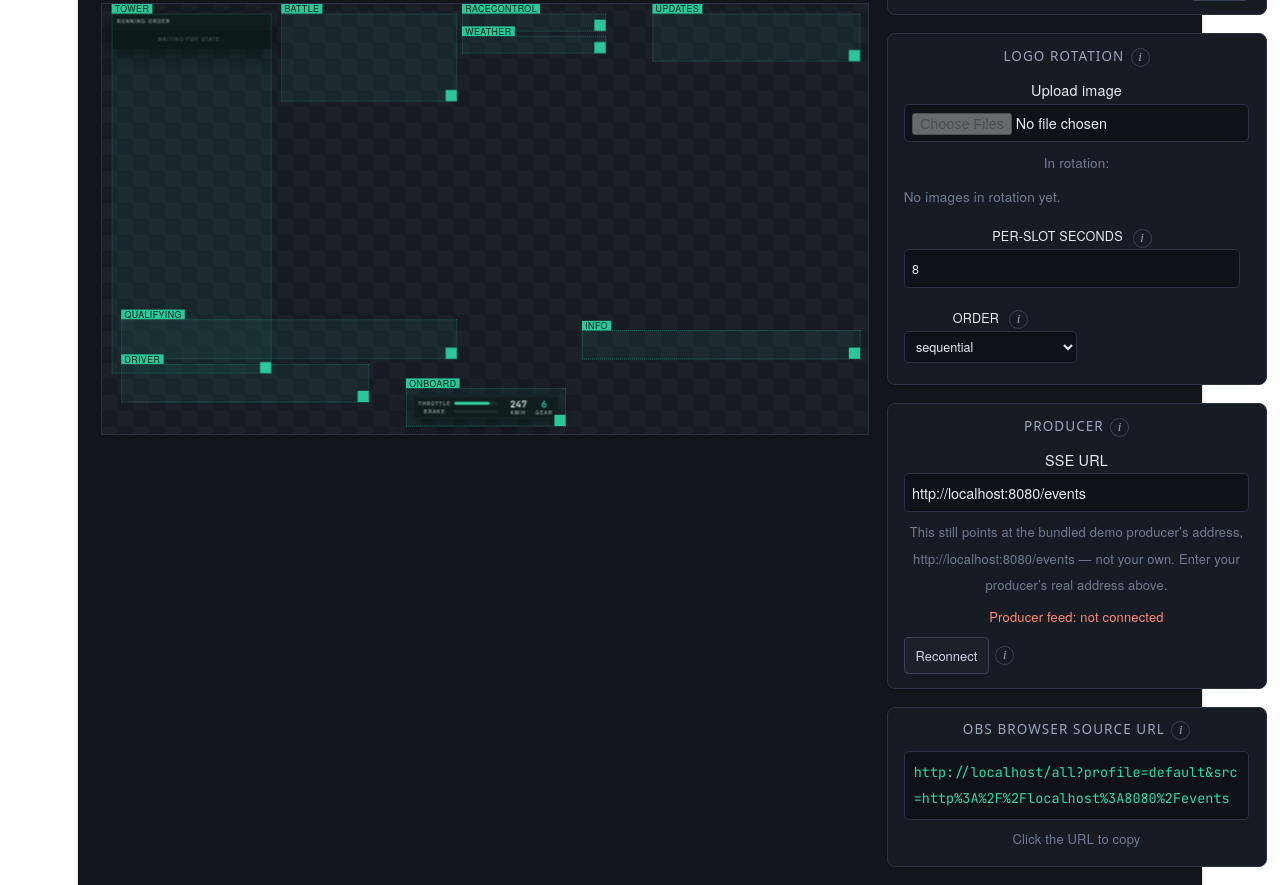
Test case: rule 30 — the Reconnect control (#160) › closes the dead connection, opens a new one against the URL in the field, and resets the readout
The width and height of the screenshot is (1280, 885).
(page scrolled)
Click the button with test id "feed-reconnect" showing "Reconnect" at (946, 656), box left=904, top=637, right=989, bottom=674
(page scrolled)
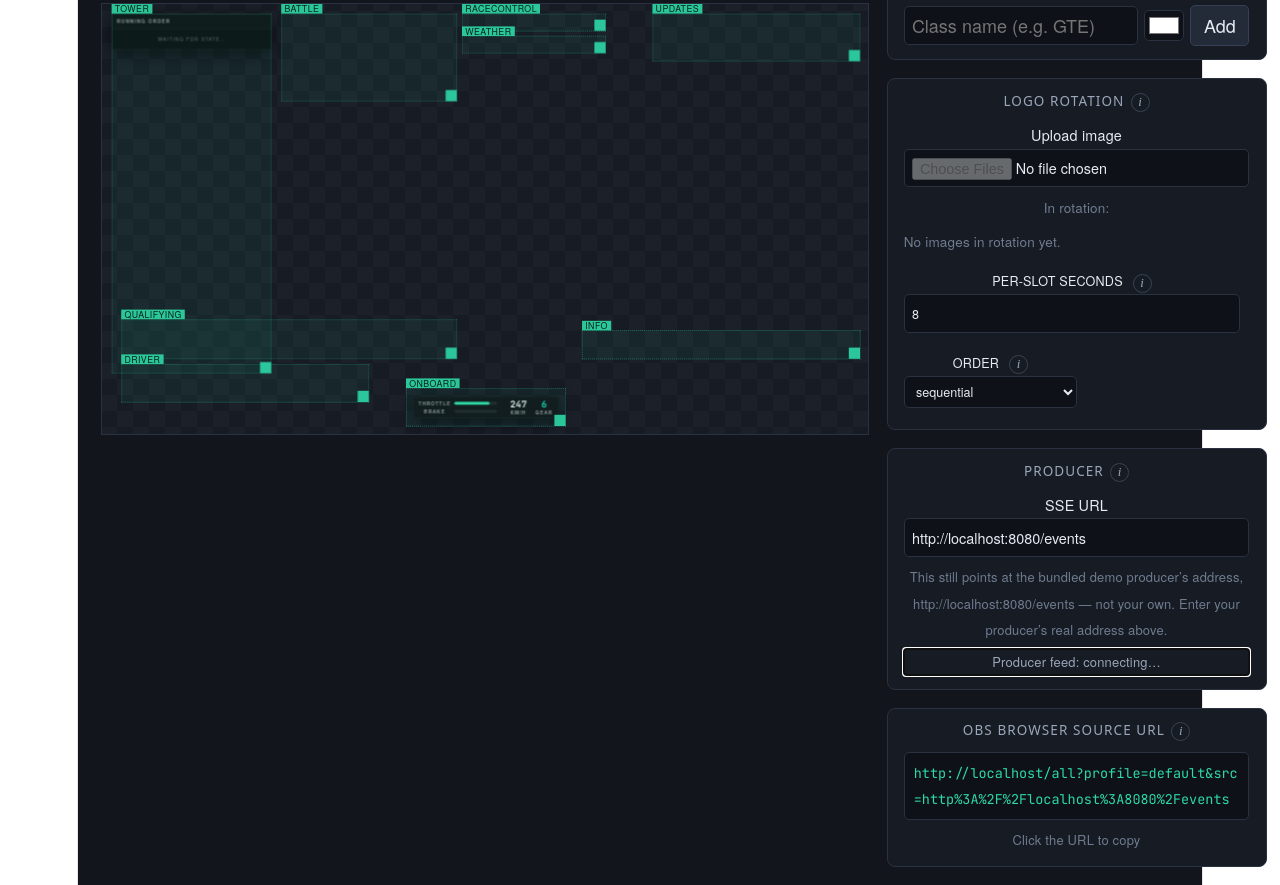
Expected: the message with test id "feed-status" reads "Producer feed: connecting…", left=992, top=652, right=1161, bottom=671
Expected: the button with test id "feed-reconnect" is gone
